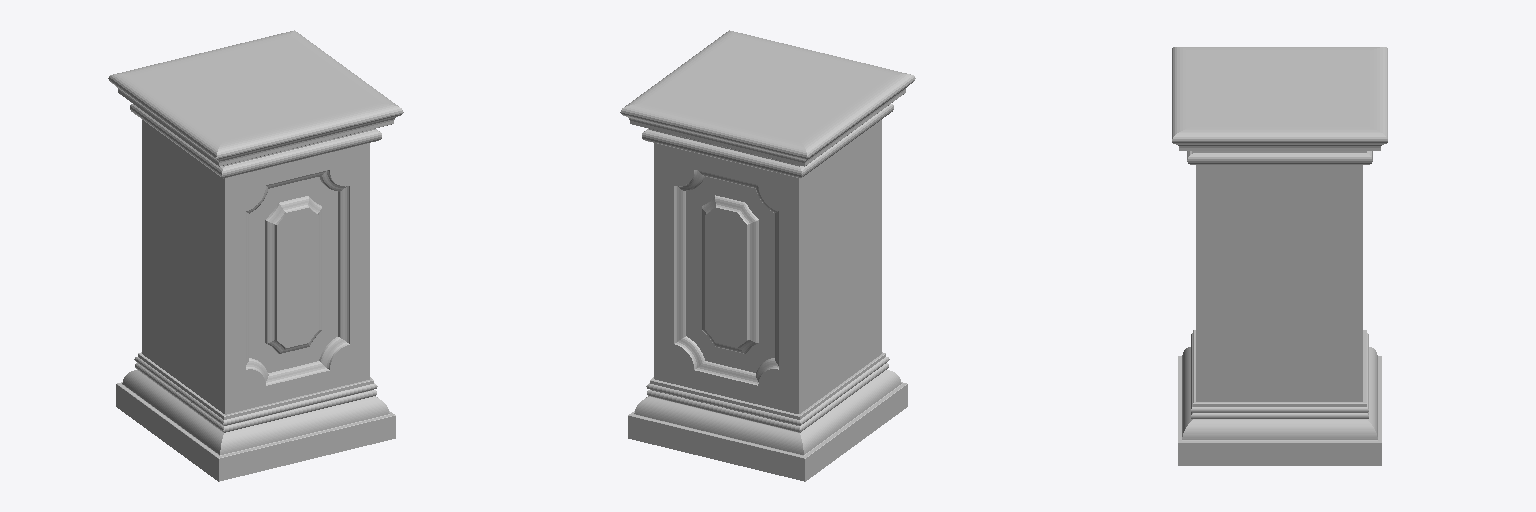
File: 001_Pedestal_high poly.obj
The picture shows the model from 3 angles: view 1: azimuth 30°, elevation 25°; view 2: azimuth 150°, elevation 25°; view 3: azimuth 270°, elevation 25°; orthographic projection.
Visible parts, largest first — view 1: Pedestal; view 2: Pedestal; view 3: Pedestal.
Part boxes in pixels (x1,y1,x2,y2): Pedestal: (108, 30, 403, 481); Pedestal: (620, 30, 915, 481); Pedestal: (1172, 47, 1387, 465).
Size of the model in its own units: 464 by 790 by 464.